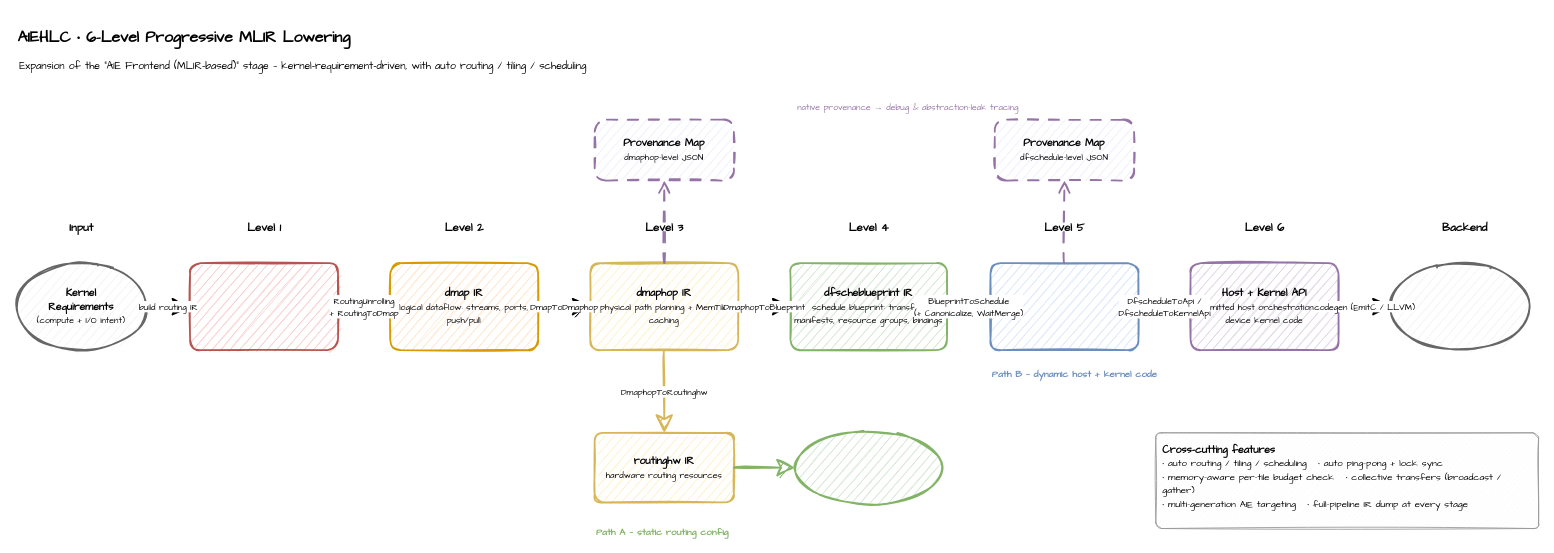
Some shapes in this 1554 by 553 pixel diagram are drawn without their labels. The shapes that lost their labels are listed below. From the top down, each one's centre as x and y in pixels, then its label:
[263,306]: routing IR (UIR) physical topology + logical dataflow co-exist, linked by SSA
[1064,306]: dfschedule IR runtime schedule: ping-pong buffers, locks, DMA sync
[1459,306]: Backend chess / llvm-aie / ARM linker → Baremetal & Linux ELF
[868,467]: Static Routing Config (RoutingConstantFold → .prx)
